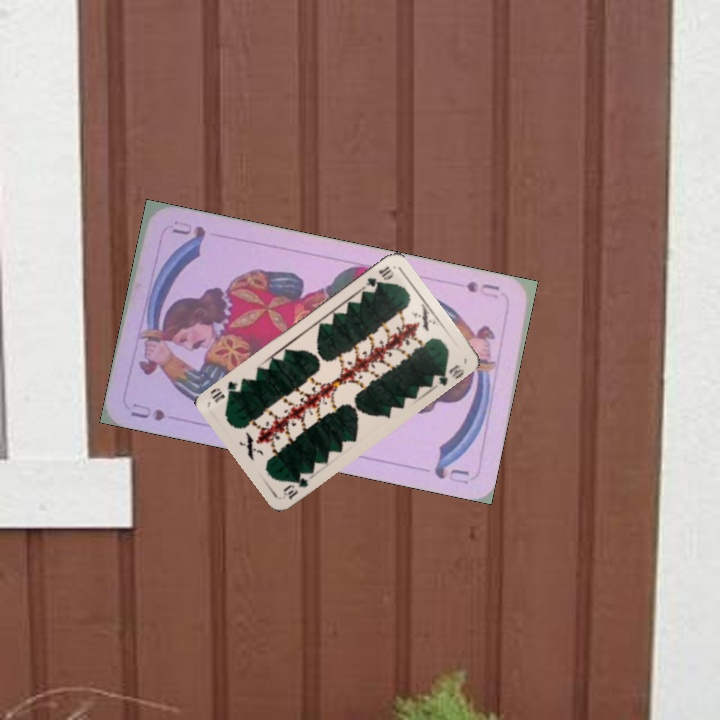G10: (361, 262, 396, 290), (279, 473, 311, 502)
SU: (126, 398, 168, 424), (462, 277, 502, 295)
